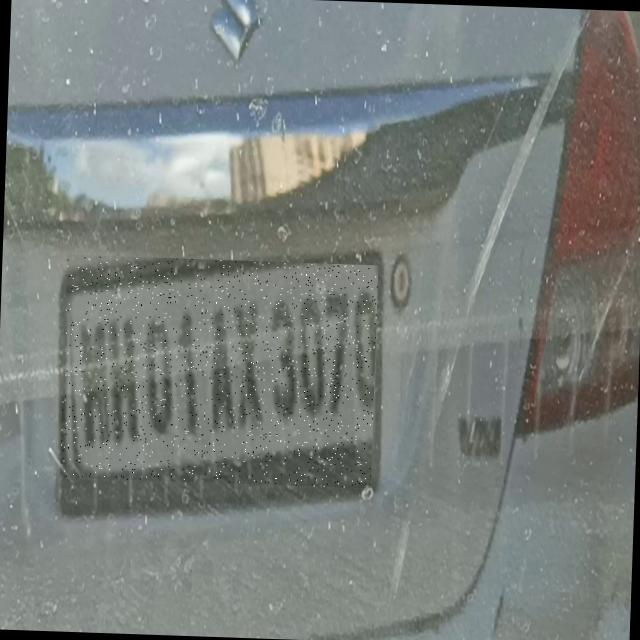Plate: (60, 255, 379, 489)
